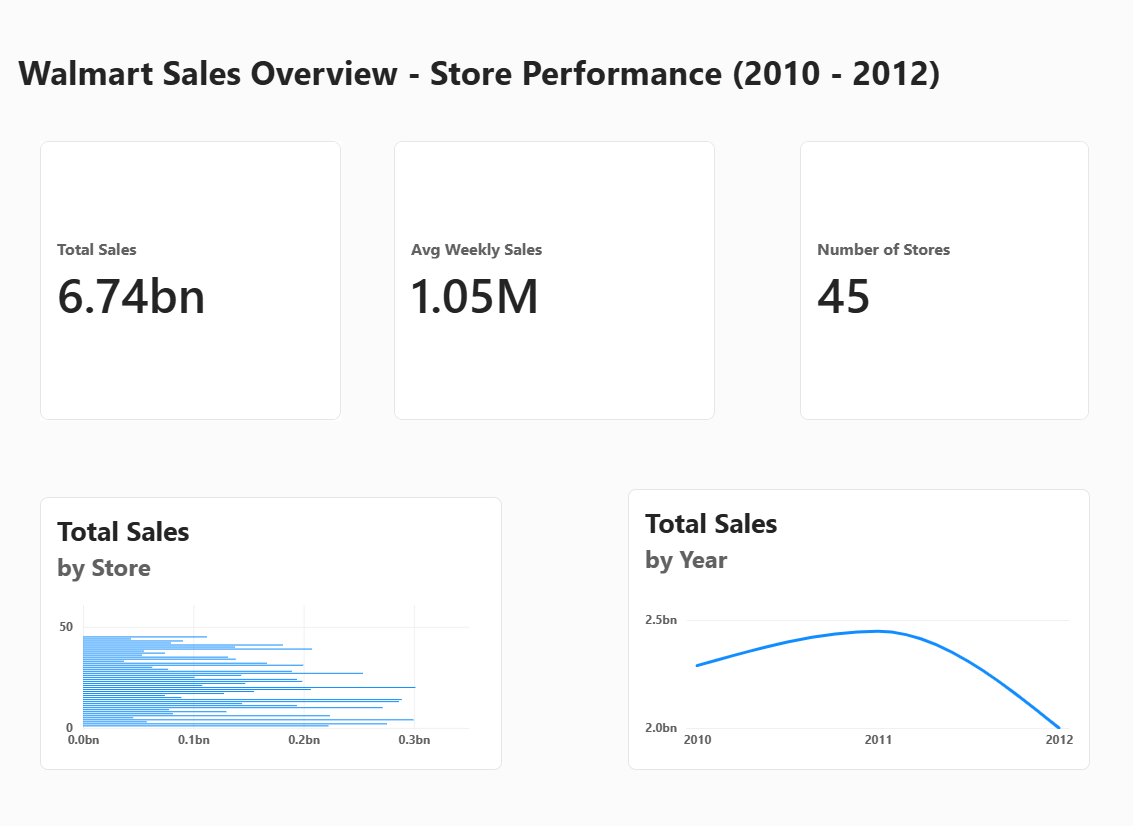

What the dashboard file says about the page in this screenshot:
{"tool":"powerbi","page":{"name":"Sales Overview","canvas":[1920,1080],"ordinal":0},"visuals":[{"type":"cardVisual","fields":{"Data":["Walmart_Sales.Total Sales"]},"box":[40,142,280,280],"z":0},{"type":"cardVisual","fields":{"Data":["Walmart_Sales.Avg Weekly Sales"]},"box":[394,142,280,280],"z":1},{"type":"cardVisual","fields":{"Data":["Walmart_Sales.Number of Stores"]},"box":[800,142,280,280],"z":2},{"type":"textbox","title":"Walmart Sales Overview - Store Performance (2010 - 2012)","box":[18.7,49.2,941.8,96.1],"z":4},{"type":"clusteredBarChart","fields":{"Category":["Walmart_Sales.Store"],"Y":["Walmart_Sales.Total Sales"]},"box":[40,498,462,273],"z":5},{"type":"lineChart","fields":{"Category":["Walmart_Sales.Date.Variation.Date Hierarchy.Year","Walmart_Sales.Date.Variation.Date Hierarchy.Quarter","Walmart_Sales.Date.Variation.Date Hierarchy.Month","Walmart_Sales.Date.Variation.Date Hierarchy.Day"],"Y":["Walmart_Sales.Total Sales"]},"box":[618,496,462,281],"z":6}]}

Visuals, with their boxes on the page's 1920x1080 design canvas (x1, y1, x2, y2). These are canvas units, not pixel positions in the 1133x826 screenshot, which may show the page scaled, cropped or inside an application window:
cardVisual - Walmart_Sales.Total Sales: 40, 142, 320, 422
cardVisual - Walmart_Sales.Avg Weekly Sales: 394, 142, 674, 422
cardVisual - Walmart_Sales.Number of Stores: 800, 142, 1080, 422
"Walmart Sales Overview - Store Performance (2010 - 2012)" textbox: 19, 49, 960, 145
clusteredBarChart - Walmart_Sales.Store x Walmart_Sales.Total Sales: 40, 498, 502, 771
lineChart - Walmart_Sales.Date.Variation.Date Hierarchy.Year x Walmart_Sales.Date.Variation.Date Hierarchy.Quarter: 618, 496, 1080, 777
